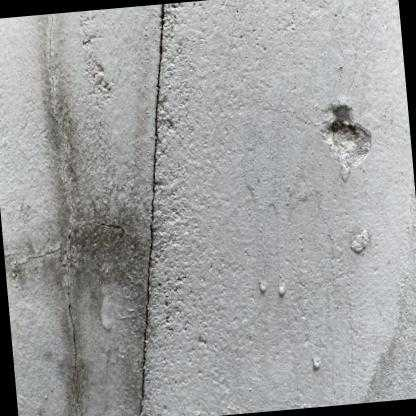crack: (12, 13, 77, 390), (136, 3, 166, 416), (75, 384, 81, 416)
